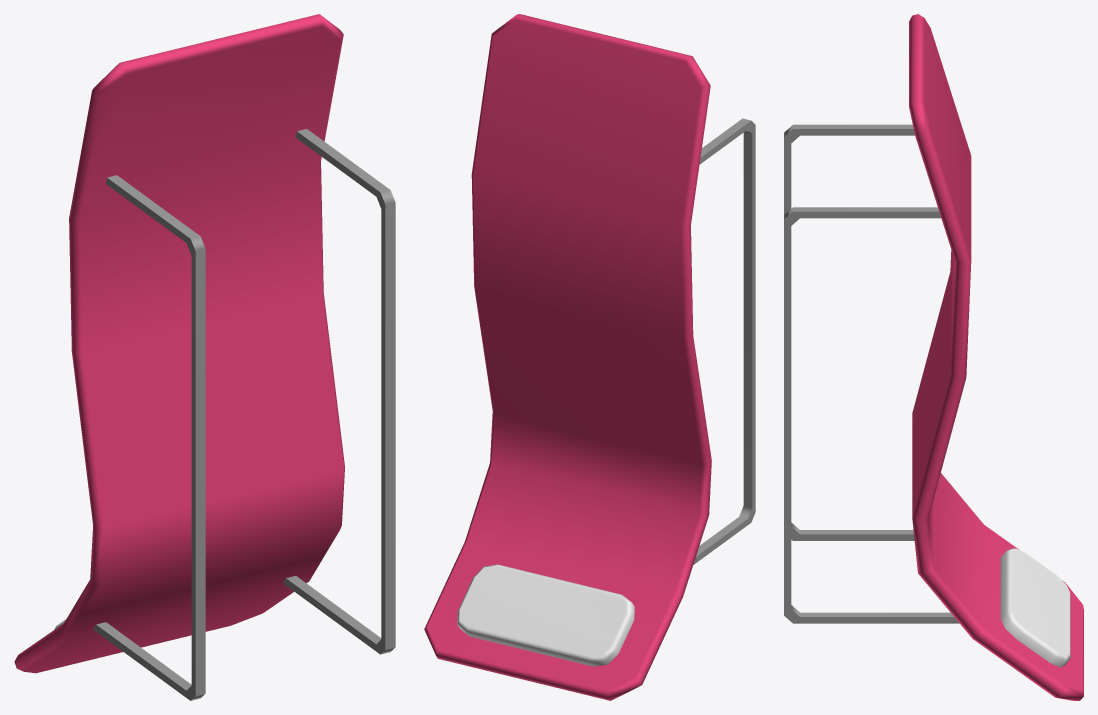
The model's file is daybed.glb.
3 views of the same model, side by side, from view 1: azimuth 30°, elevation 25°; view 2: azimuth 150°, elevation 25°; view 3: azimuth 270°, elevation 25° (orthographic). The views are drawn at different scales.
Parts seen in each view (by area): view 1: lounge_chair_001; view 2: lounge_chair_001; view 3: lounge_chair_001.
Part boxes in pixels (x1,y1,x2,y2): lounge_chair_001: [14, 14, 395, 700]; lounge_chair_001: [424, 14, 755, 700]; lounge_chair_001: [784, 14, 1083, 700].
Bounding box in the file's own units: 0.6838 × 1.78 × 0.8026.
1 material, 1 textured.
